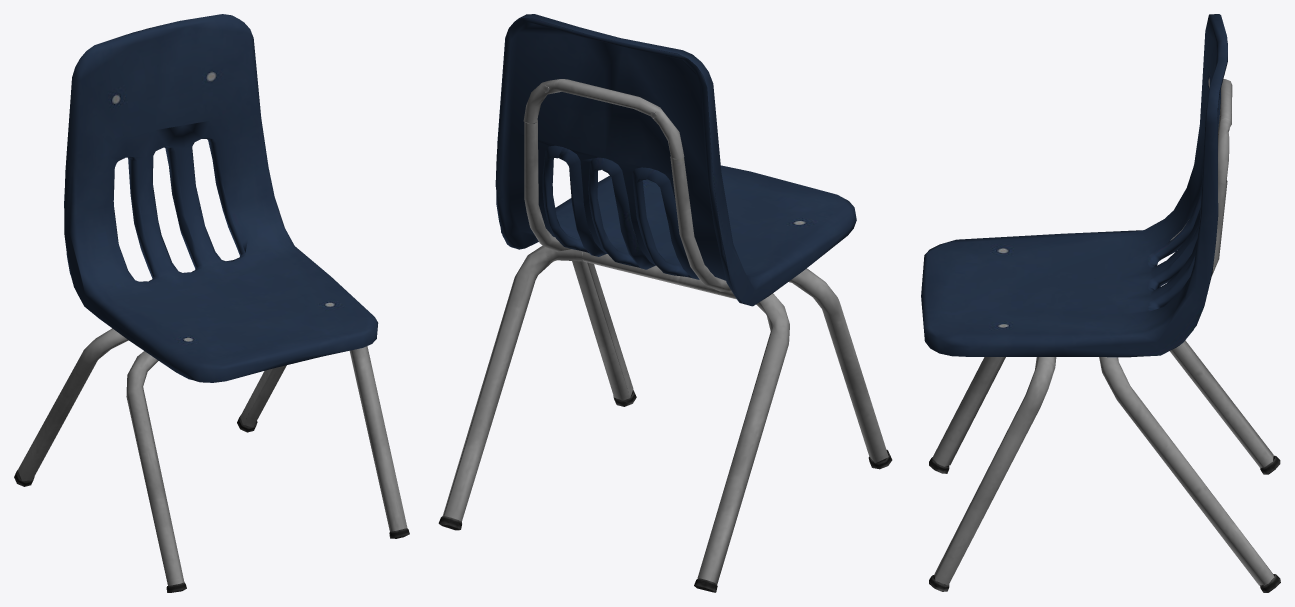
Rendered from distance.fbx.
The picture shows the model from 3 angles, left to right: view 1: azimuth 30°, elevation 25°; view 2: azimuth 150°, elevation 25°; view 3: azimuth 270°, elevation 25°; orthographic projection. The views are drawn at different scales.
Visible parts, largest first — view 1: SchoolChair_01; view 2: SchoolChair_01; view 3: SchoolChair_01.
Boxes of the visible parts, <box> form: SchoolChair_01: <box>14,14,409,592</box>; SchoolChair_01: <box>438,14,892,592</box>; SchoolChair_01: <box>921,14,1280,592</box>.
Size of the model in its own units: 56.64 by 101 by 67.76.
